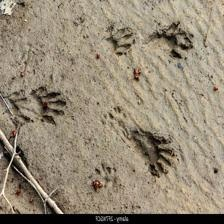raccoon: (128, 129, 176, 185), (25, 84, 70, 128), (102, 23, 139, 62)
